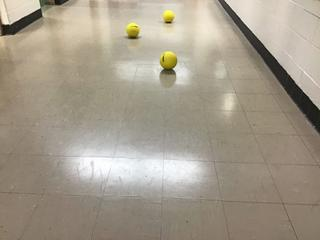power_cell: (124, 23, 143, 41), (159, 51, 178, 68), (160, 10, 177, 23)
